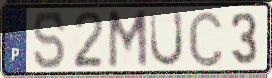2: (72, 10, 105, 71)
3: (229, 11, 260, 66)
C: (187, 8, 225, 69)
M: (106, 8, 149, 72)
S: (32, 9, 67, 72)
U: (148, 10, 185, 69)
